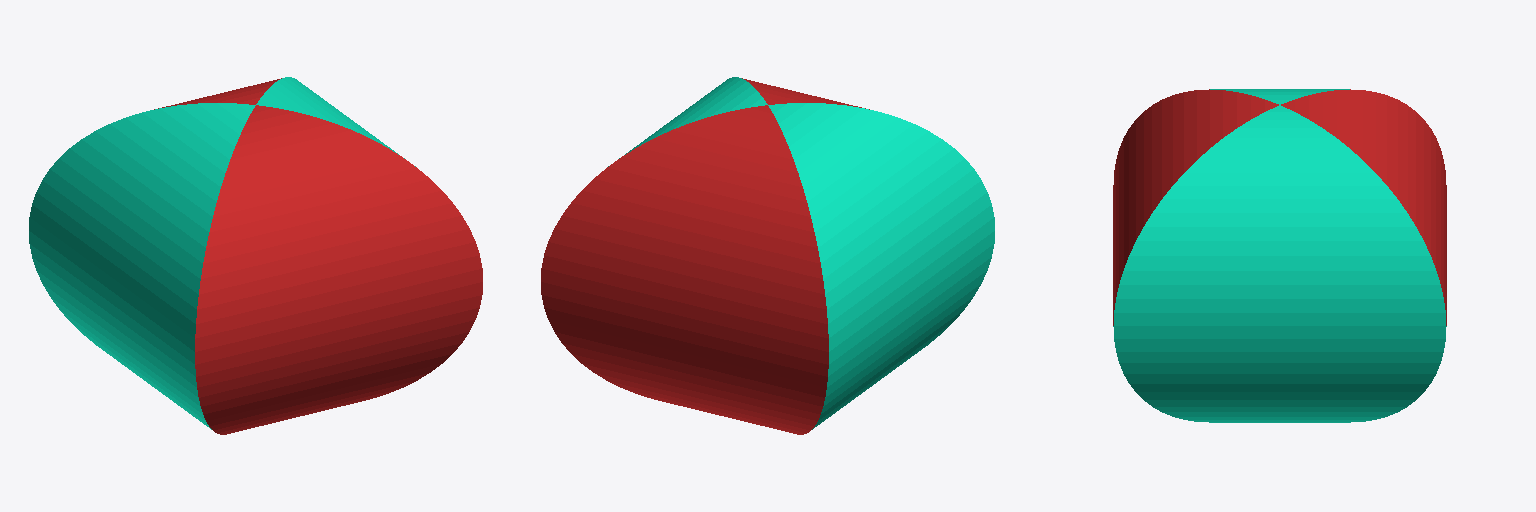
3 renders of one model, left to right at view 1: azimuth 30°, elevation 25°; view 2: azimuth 150°, elevation 25°; view 3: azimuth 270°, elevation 25°, orthographic.
Parts seen in each view (by area): view 1: Cylinder.001; view 2: Cylinder.001; view 3: Cylinder.001.
Part boxes in pixels (x1,y1,x2,y2): Cylinder.001: (29,77,482,434); Cylinder.001: (541,77,994,434); Cylinder.001: (1113,89,1446,422).
Bounding box in the file's own units: 1 × 1 × 1.
1 materials, 1 textured.